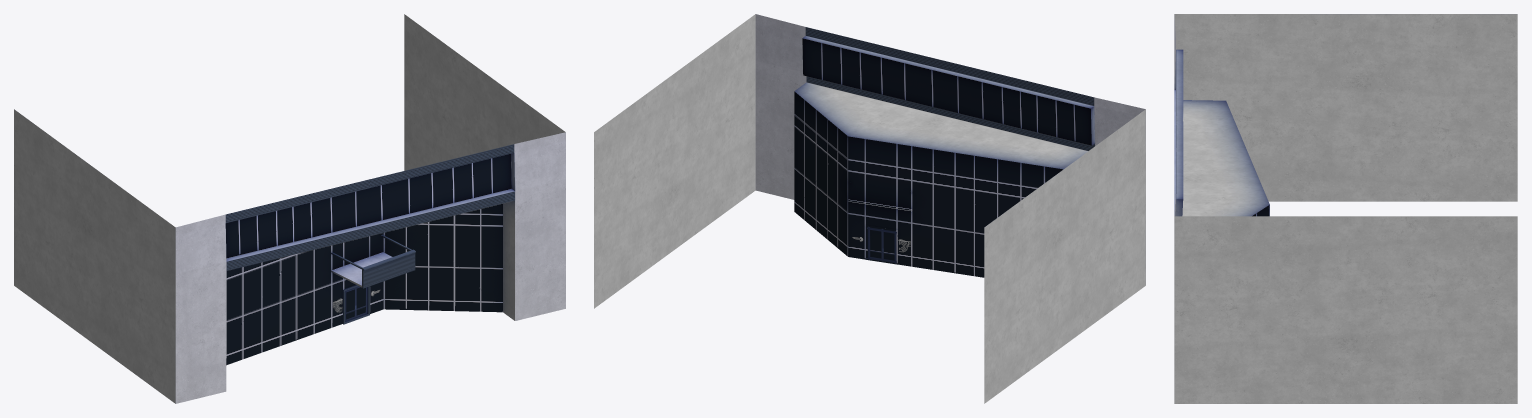
The model's file is Crane.fbx.
The picture shows the model from 3 angles, left to right: view 1: azimuth 30°, elevation 25°; view 2: azimuth 150°, elevation 25°; view 3: azimuth 270°, elevation 25°; orthographic projection. The views are drawn at different scales.
Visible parts, largest first — view 1: Crane:Crane:polySurface24; view 2: Crane:Crane:polySurface24; view 3: Crane:Crane:polySurface24.
Part boxes in pixels (bbox=[...]): Crane:Crane:polySurface24: bbox=[14, 14, 565, 403]; Crane:Crane:polySurface24: bbox=[594, 14, 1145, 403]; Crane:Crane:polySurface24: bbox=[1174, 14, 1517, 403].
Bounding box in the file's own units: 3570 × 1547 × 2561.
1 material, 1 textured.
